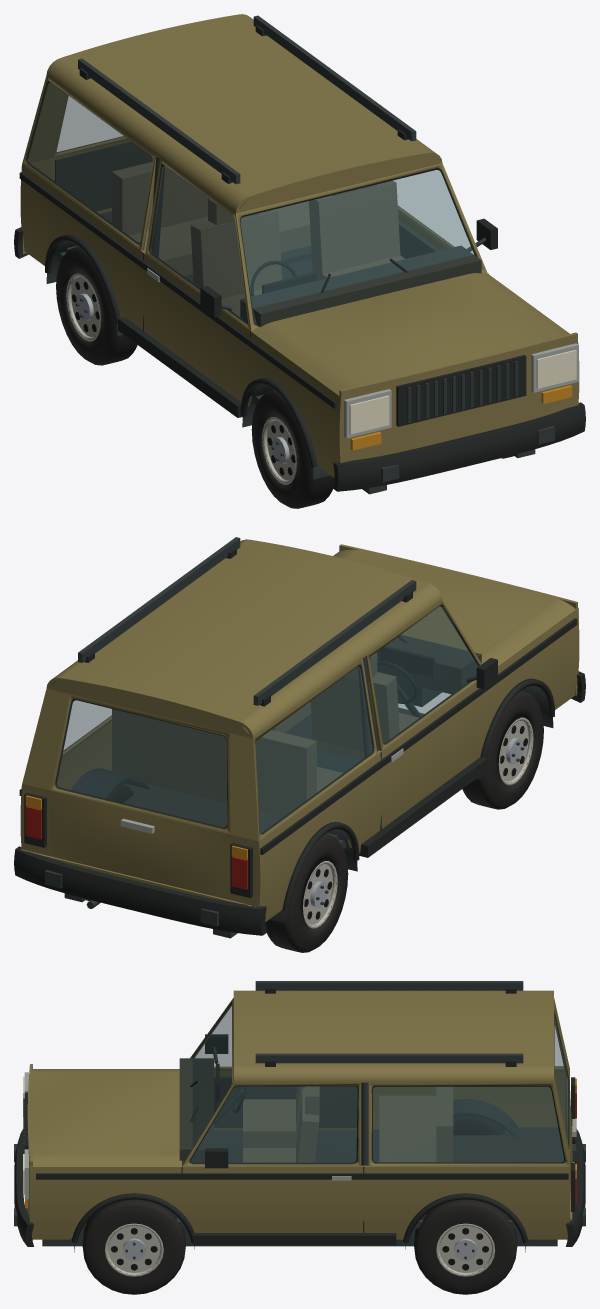
The model's file is trail.glb.
3 views of the same model, one above another, from view 1: azimuth 30°, elevation 25°; view 2: azimuth 150°, elevation 25°; view 3: azimuth 270°, elevation 25° (orthographic). The views are drawn at different scales.
Visible parts, largest first — view 1: panel_RoofTrail, glass_FrontTrail, panel_hoodTrail, glass_QuarterLTrail, panel_TrailfrontValance, glass_BodyDoorLTrail, panel_BodyDoorLTrail, panel_bumper_frontTrail, Interior Trail dash, Interior Trail front back 1, panel_RearQuarterLTrail, Interior Trail front back -1 (+31 smaller); view 2: panel_RoofTrail, glass_TailgateTrailRear, panel_TailgateTrailSkin, Interior Trail rear back, glass_QuarterLTrail, glass_BodyDoorLTrail, panel_hoodTrail, panel_BodyDoorLTrail, panel_bumper_rearTrail, panel_RearQuarterLTrail, panel_RoofShoulderTrailL, Interior Trail front back -1 (+38 smaller); view 3: panel_RoofTrail, glass_QuarterRTrail, panel_hoodTrail, panel_BodyDoorRTrail, glass_BodyDoorRTrail, panel_RearQuarterRTrail, panel_FrontWingRTrail, panel_RoofShoulderTrailR, Tire_Rook_FR, Tire_Rook_RR, panel_RearQuarterLTrail, Interior Trail rear bench (+40 smaller).
Part boxes in pixels (x1,y1,x2,y2): panel_RoofTrail: (62,14,426,198); glass_FrontTrail: (240,170,473,324); panel_hoodTrail: (273,274,556,386); glass_QuarterLTrail: (28,82,152,242); panel_TrailfrontValance: (339,332,577,462); glass_BodyDoorLTrail: (150,165,247,322); panel_BodyDoorLTrail: (142,252,252,406); panel_bumper_frontTrail: (333,402,585,491); Interior Trail dash: (240,245,481,326); Interior Trail front back 1: (309,180,400,273); panel_RearQuarterLTrail: (20,164,145,330); Interior Trail front back -1: (190,209,281,298); panel_RoofTrail: (62,540,426,724); glass_TailgateTrailRear: (57,700,226,827); panel_TailgateTrailSkin: (50,790,230,900); Interior Trail rear back: (112,709,316,813); glass_QuarterLTrail: (255,666,372,832); glass_BodyDoorLTrail: (370,606,477,742); panel_hoodTrail: (347,549,556,653); panel_BodyDoorLTrail: (378,682,489,828); panel_bumper_rearTrail: (14,846,266,935); panel_RearQuarterLTrail: (256,751,382,921); panel_RoofShoulderTrailL: (236,583,442,738); Interior Trail front back -1: (310,672,399,751); panel_RoofTrail: (233,992,553,1064); glass_QuarterRTrail: (373,1086,563,1162); panel_hoodTrail: (30,1072,179,1153); panel_BodyDoorRTrail: (182,1165,363,1232); glass_BodyDoorRTrail: (191,1086,357,1162); panel_RearQuarterRTrail: (363,1165,569,1239); panel_FrontWingRTrail: (30,1167,181,1239); panel_RoofShoulderTrailR: (233,1064,553,1082); Tire_Rook_FR: (82,1199,185,1294); Tire_Rook_RR: (414,1199,517,1294); panel_RearQuarterLTrail: (373,1070,566,1129); Interior Trail rear bench: (379,1095,436,1162).
Bounding box in the file's own units: 2.26 × 2.06 × 4.66.
